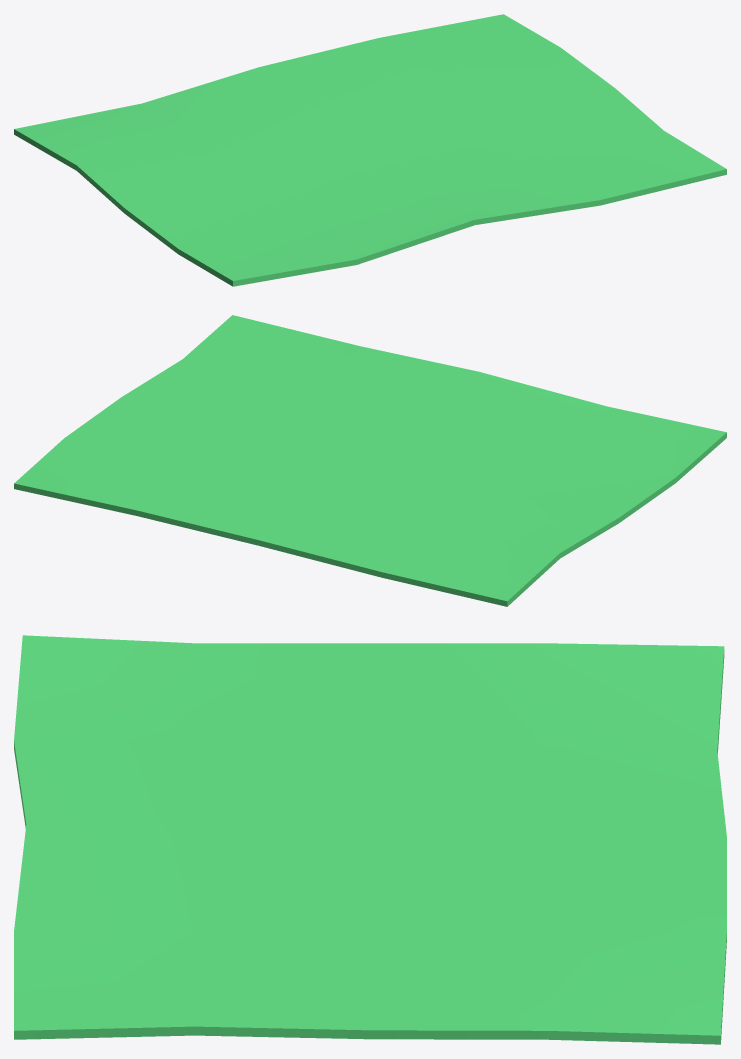
The model's file is SM_Gauze.fbx.
The picture shows the model from 3 angles, top to bottom: view 1: azimuth 30°, elevation 25°; view 2: azimuth 150°, elevation 25°; view 3: azimuth 270°, elevation 25°; orthographic projection. The views are drawn at different scales.
Visible parts, largest first — view 1: Gauze; view 2: Gauze; view 3: Gauze.
Part boxes in pixels (x1,y1,x2,y2): Gauze: (14, 14, 726, 286); Gauze: (14, 315, 726, 606); Gauze: (14, 635, 726, 1044).
Bounding box in the file's own units: 0.0847 × 0.00288 × 0.0659.
